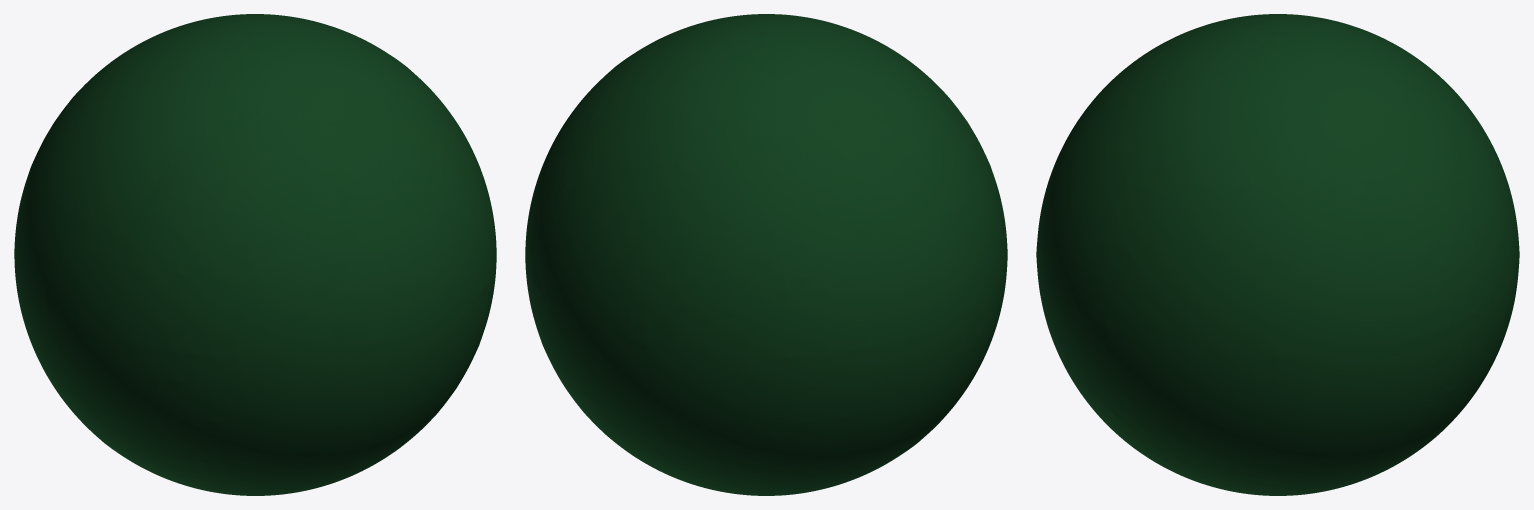
Rendered from Meshy_AI_Green_sphere_ball_sep_0704102149_image-to-3d-texture.glb.
The picture shows the model from 3 angles, left to right: view 1: azimuth 30°, elevation 25°; view 2: azimuth 150°, elevation 25°; view 3: azimuth 270°, elevation 25°; orthographic projection.
Size of the model in its own units: 1.9 by 1.9 by 1.9.
1 material, 1 textured.
